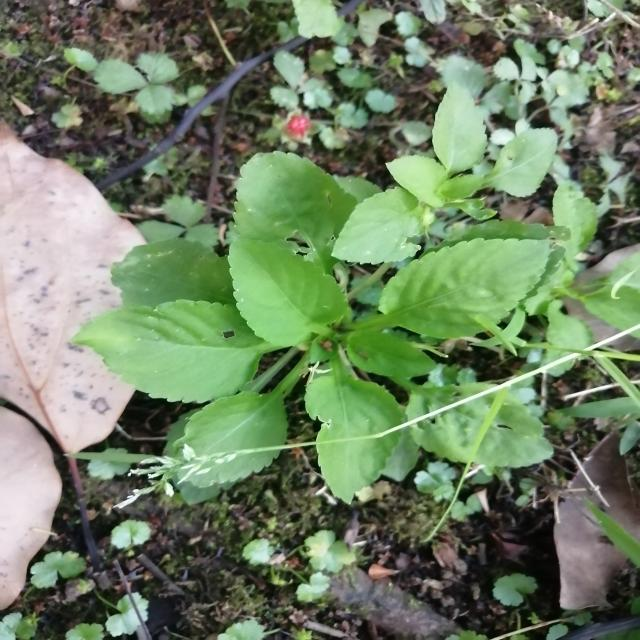Viola: (96, 155, 584, 522)
